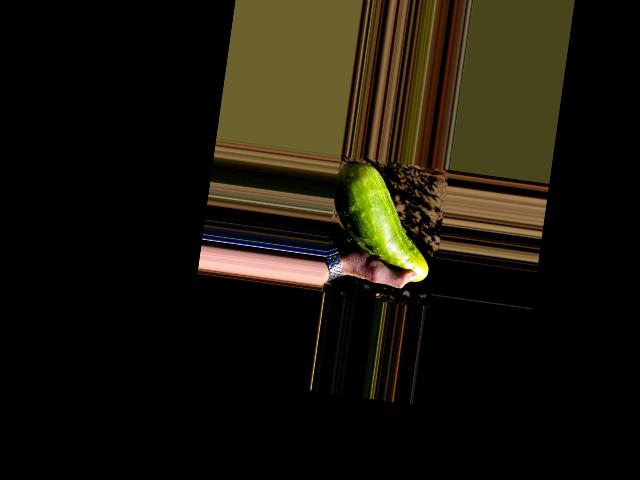cucumber: (323, 158, 441, 283)
